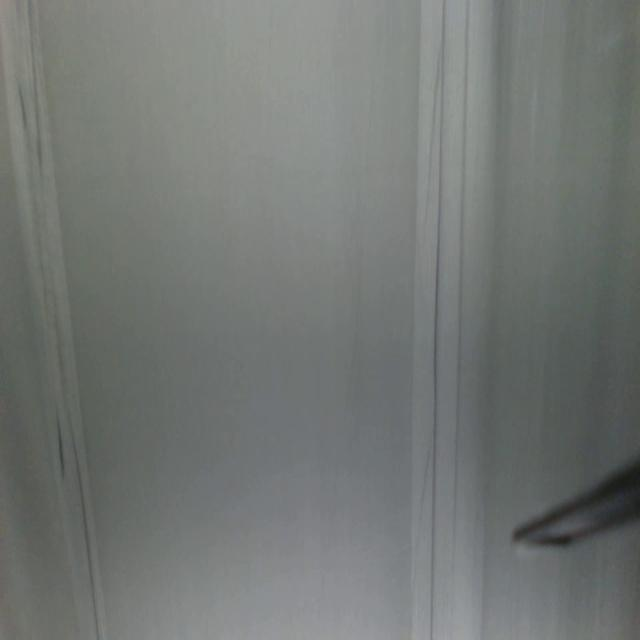crease: (3, 1, 105, 640), (412, 0, 476, 639)
